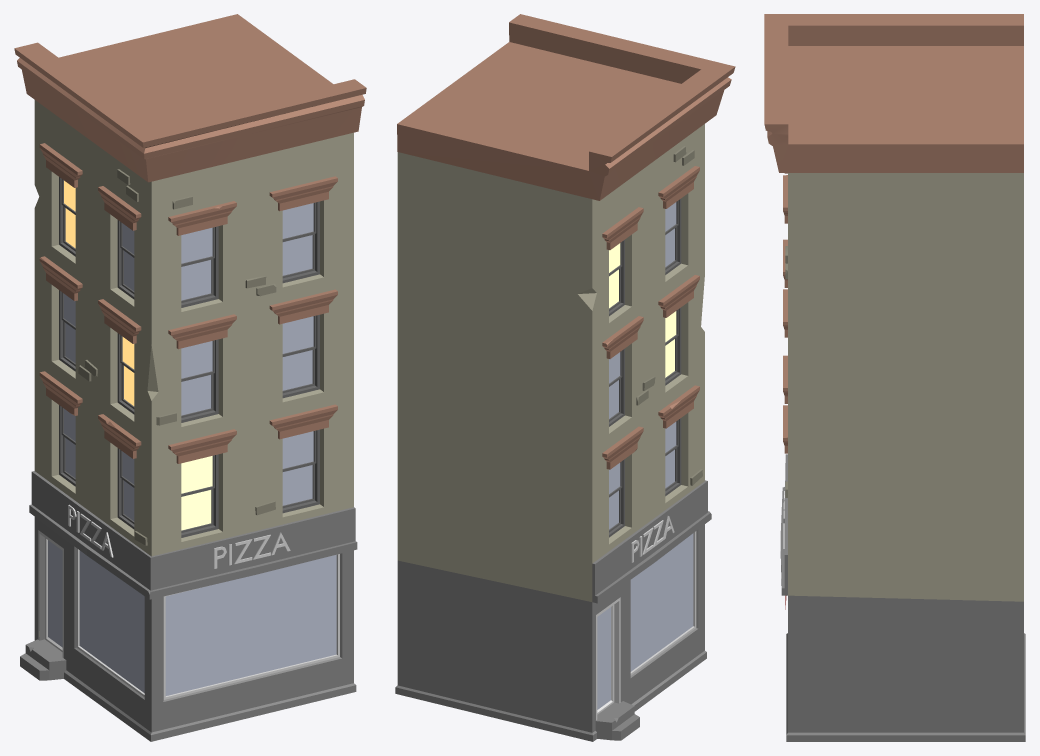
The model's file is building_01.glb.
3 renders of one model, left to right at view 1: azimuth 30°, elevation 25°; view 2: azimuth 150°, elevation 25°; view 3: azimuth 270°, elevation 25°, orthographic. The views are drawn at different scales.
Parts seen in each view (by area): view 1: green_corner; view 2: green_corner; view 3: green_corner.
Part boxes in pixels (<box>): green_corner: <box>14,14,366,741</box>; green_corner: <box>395,14,735,741</box>; green_corner: <box>764,14,1025,741</box>.
Bounding box in the file's own units: 1.34 × 3.47 × 1.33.
